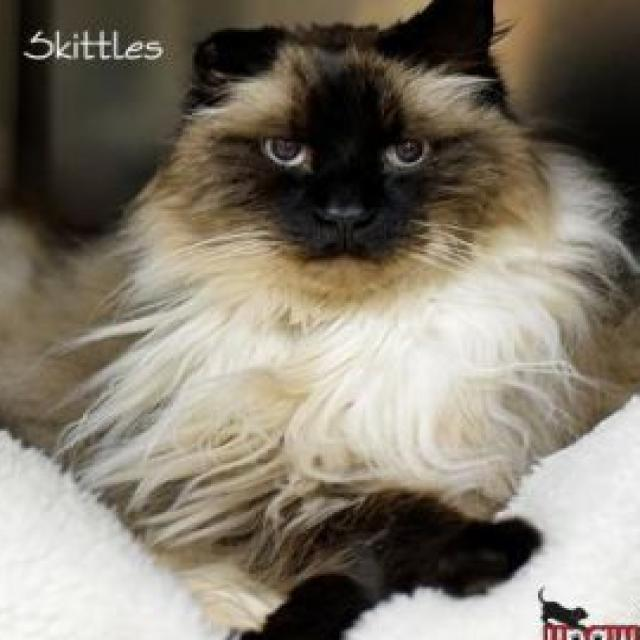Birman: (64, 0, 616, 640)
